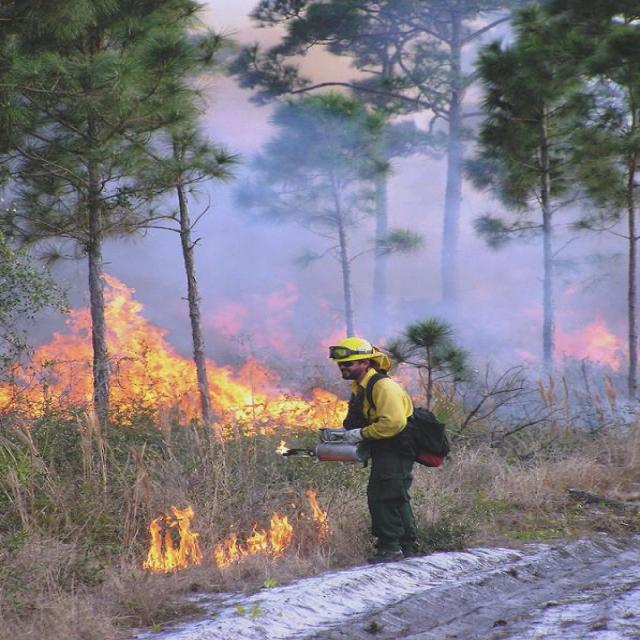fire: (5, 302, 214, 429), (144, 505, 324, 571), (217, 365, 350, 442)
smoke: (208, 156, 448, 268)
